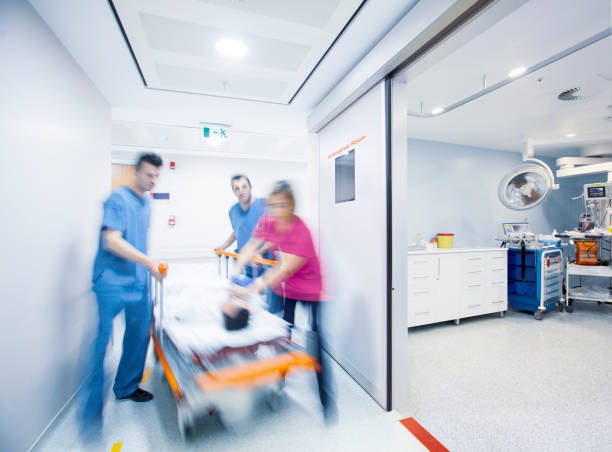bedrail: (210, 247, 290, 325), (141, 248, 173, 357)
bedside_monitor: (584, 183, 612, 203)
drawer: (397, 245, 513, 339)
medical_drawer: (506, 235, 561, 321)
staff: (47, 150, 172, 435), (260, 172, 350, 429), (220, 170, 273, 293)
surgical_light: (493, 164, 560, 214)
